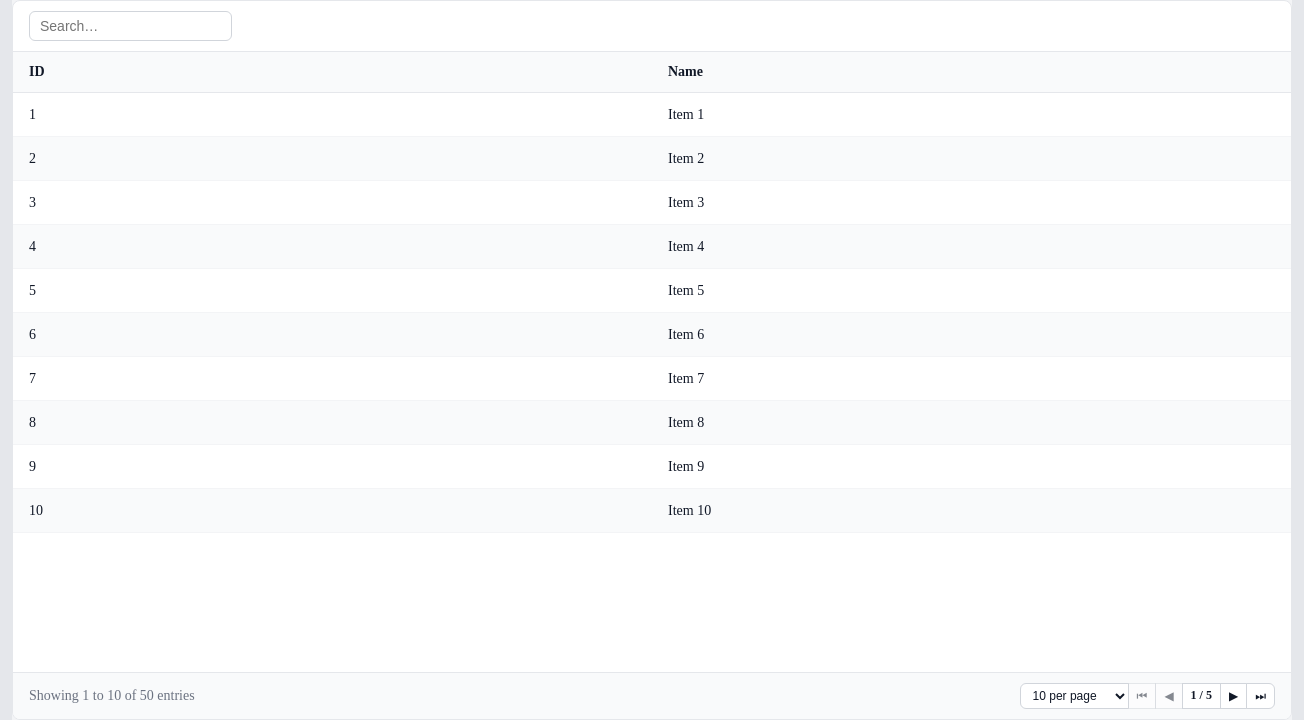
Test case: DataTable Virtualized Component › quick filter (issue #317) › filters rows by a case-insensitive substring match against any column, resetting the page to 1
// Navigate to page 3 first, to prove filtering resets it.
Step 1. Click the button named "Next page" → (1234, 696), box [1220,683,1247,709]
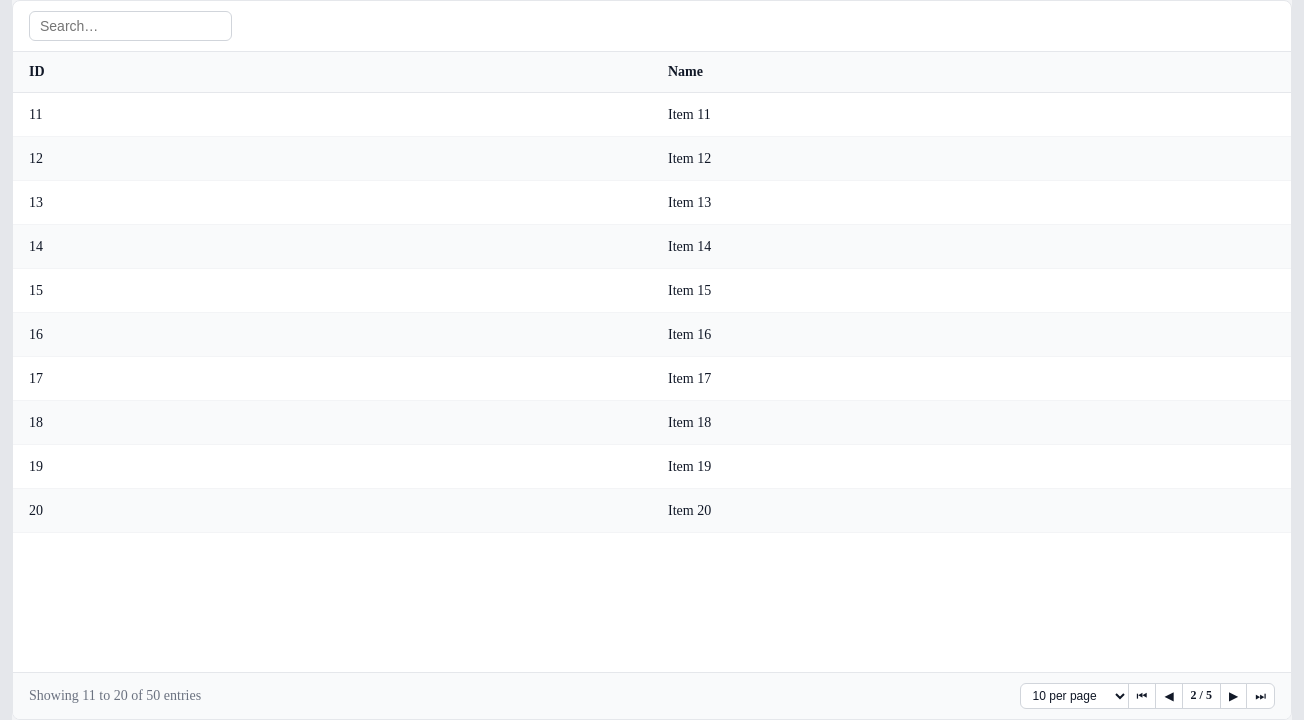
Step 2. Click the button named "Next page" → (1234, 696), box [1220,683,1247,709]
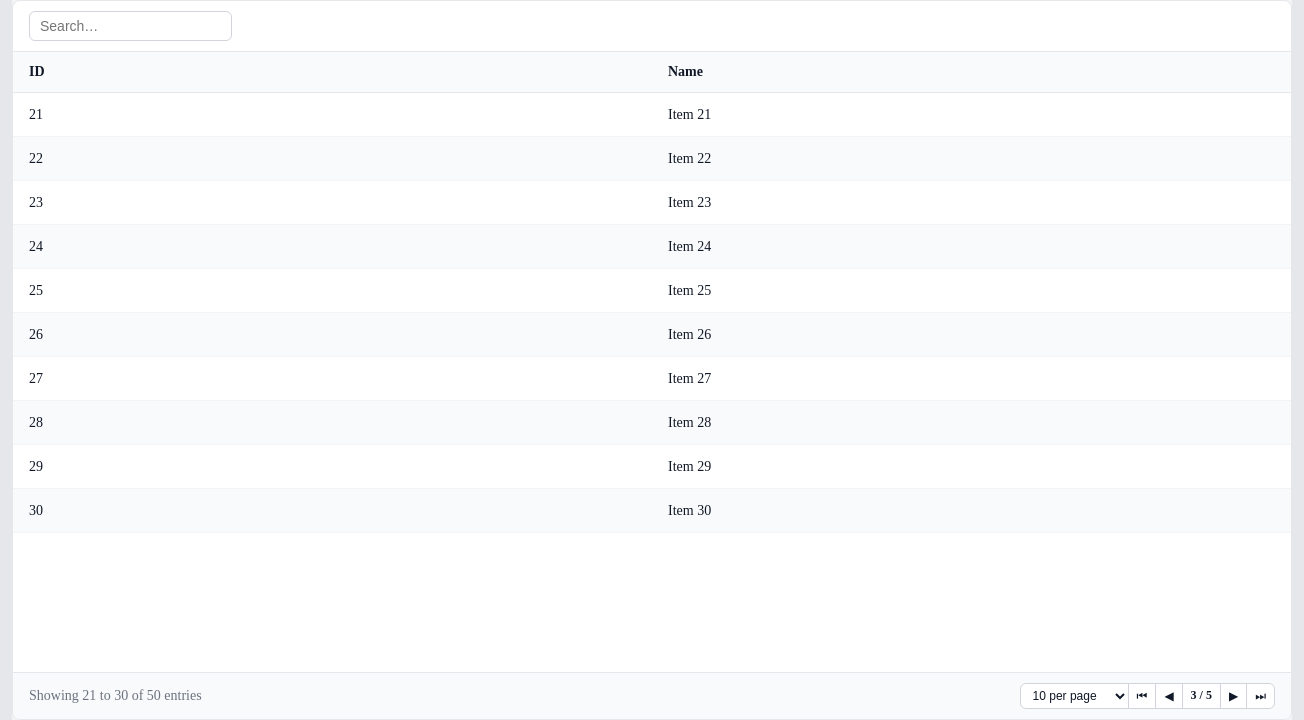
Expected: the text "3 / 5" is shown, [1182,683,1221,709]
Step 3. Type "item 42" into the search field → (130, 26), box [29,11,232,41]
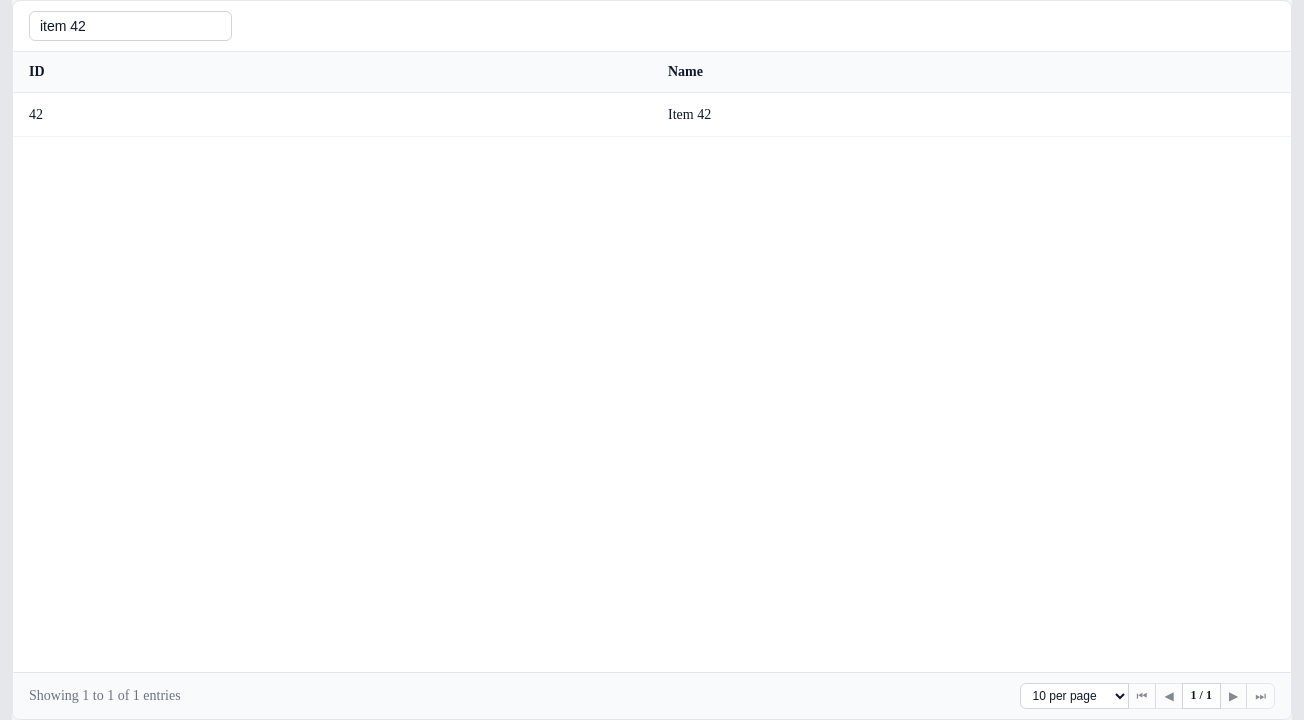
Expected: the text "Item 42" is shown, [652,92,1291,136]
Expected: the text "Showing 1 to 1 of 1 entries" is shown, [29,688,181,704]
Expected: the text "1 / 1" is shown, [1182,683,1221,709]
